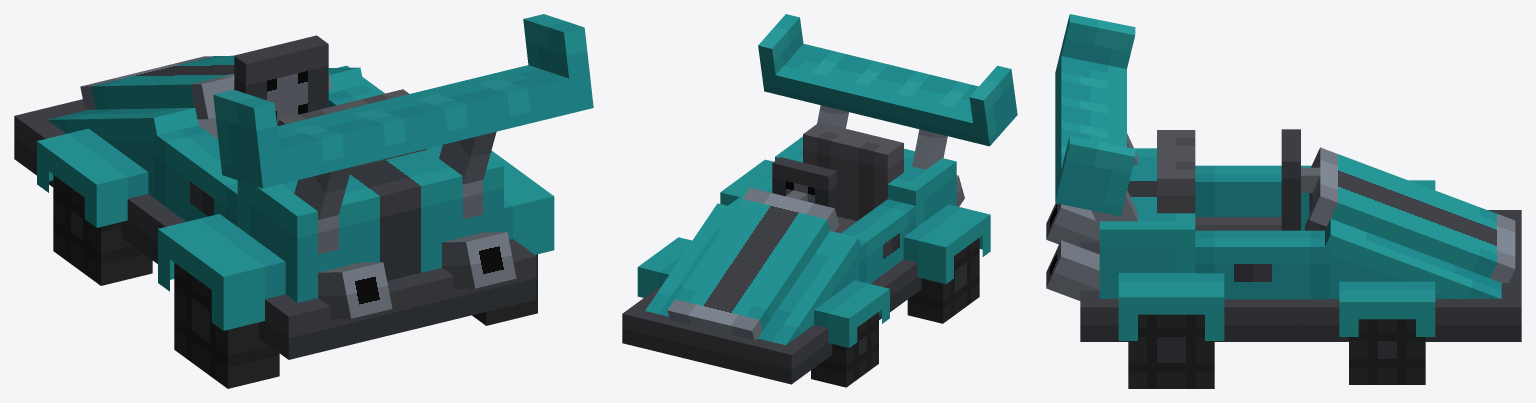
Rendered from Cyan Kart.glb.
3 renders of one model, left to right at view 1: azimuth 30°, elevation 25°; view 2: azimuth 150°, elevation 25°; view 3: azimuth 270°, elevation 25°, orthographic. The views are drawn at different scales.
Visible parts, largest first — view 1: BodyMesh, WheelMesh (×3), SteeringWheelMesh; view 2: BodyMesh, WheelMesh (×2), SteeringWheelMesh; view 3: BodyMesh, WheelMesh (×2), SteeringWheelMesh.
Boxes of the visible parts, x1,y1,x2,y2 form: BodyMesh: (14, 14, 593, 359); WheelMesh (×3): (53, 175, 537, 388); SteeringWheelMesh: (234, 35, 328, 126); BodyMesh: (622, 14, 1017, 384); WheelMesh (×2): (811, 238, 979, 387); SteeringWheelMesh: (772, 157, 836, 230); BodyMesh: (1046, 14, 1521, 341); WheelMesh (×2): (1128, 314, 1425, 388); SteeringWheelMesh: (1281, 129, 1320, 230).
Size of the model in its own units: 2 by 1.79 by 3.1.
Materials: 1 (1 with a texture image).
